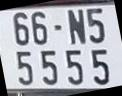-: (54, 26, 62, 30)
5: (92, 50, 110, 84), (66, 50, 83, 85), (87, 9, 104, 43), (17, 52, 33, 85), (42, 51, 57, 84)
6: (14, 13, 29, 46), (32, 12, 46, 44)
N: (68, 10, 85, 44)
